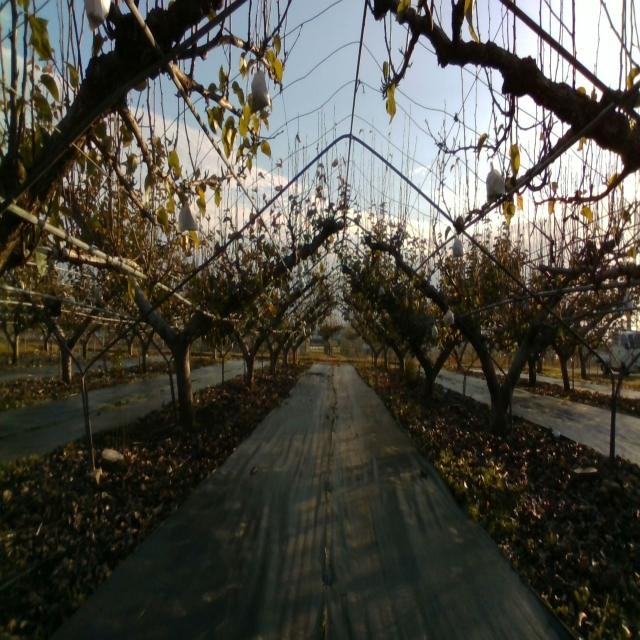pearbags: (250, 68, 271, 115), (486, 162, 506, 203), (178, 203, 198, 235), (452, 237, 464, 260)
